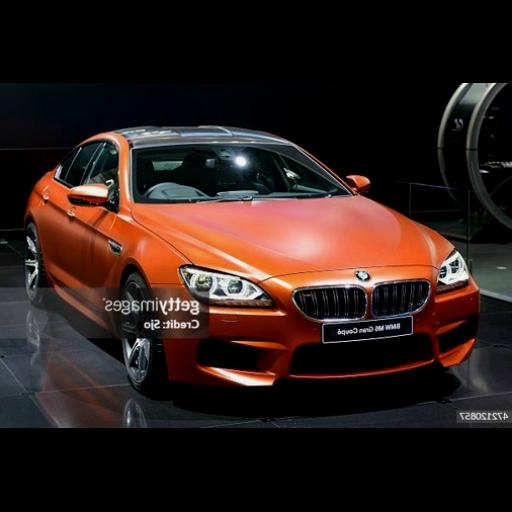sedan: (26, 125, 480, 391)
